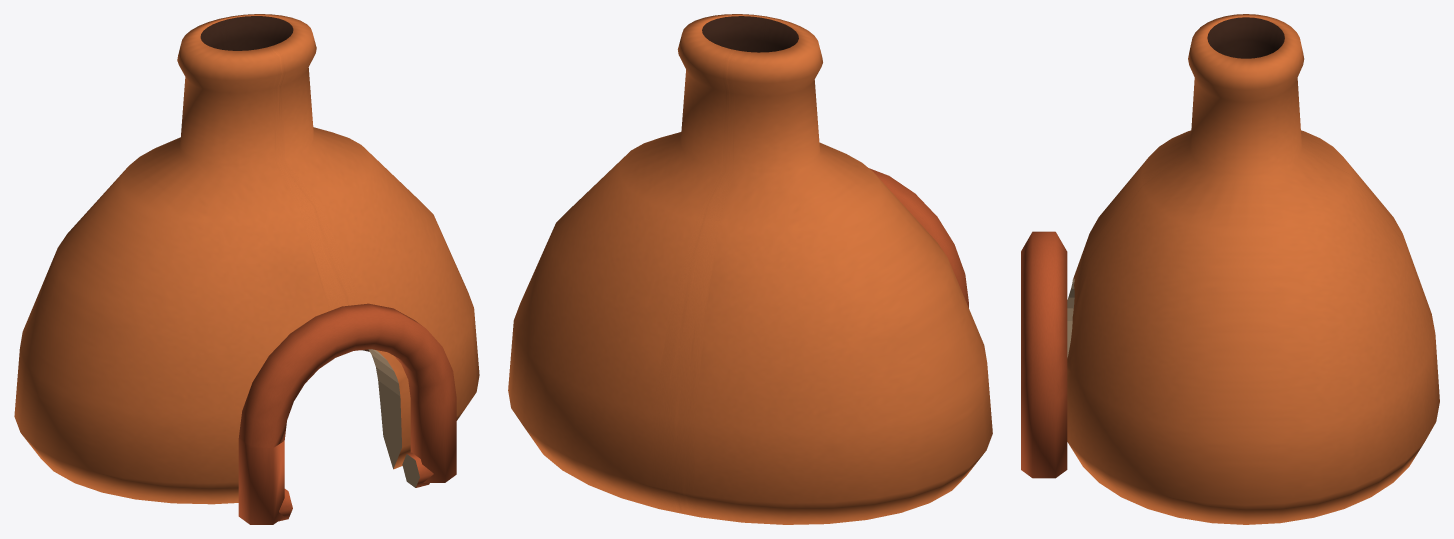
Rendered from kiln_v2.glb.
The picture shows the model from 3 angles, left to right: view 1: azimuth 30°, elevation 25°; view 2: azimuth 150°, elevation 25°; view 3: azimuth 270°, elevation 25°; orthographic projection. The views are drawn at different scales.
Visible parts, largest first — view 1: KilnV2; view 2: KilnV2; view 3: KilnV2.
Part boxes in pixels (left/top/right/bottom): KilnV2: left=14, top=14, right=479, bottom=524; KilnV2: left=508, top=14, right=992, bottom=524; KilnV2: left=1021, top=14, right=1439, bottom=524.
Bounding box in the file's own units: 3.4 × 3.02 × 2.9.
Materials: 1 (1 with a texture image).
